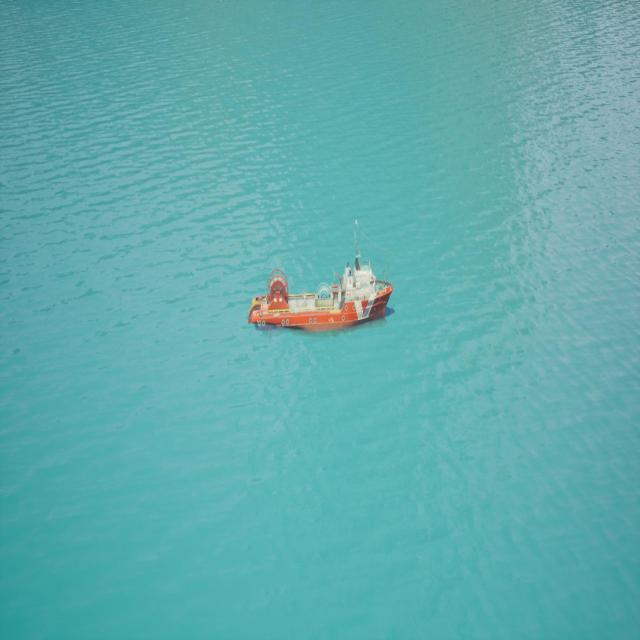tug boat: (250, 222, 397, 339)
